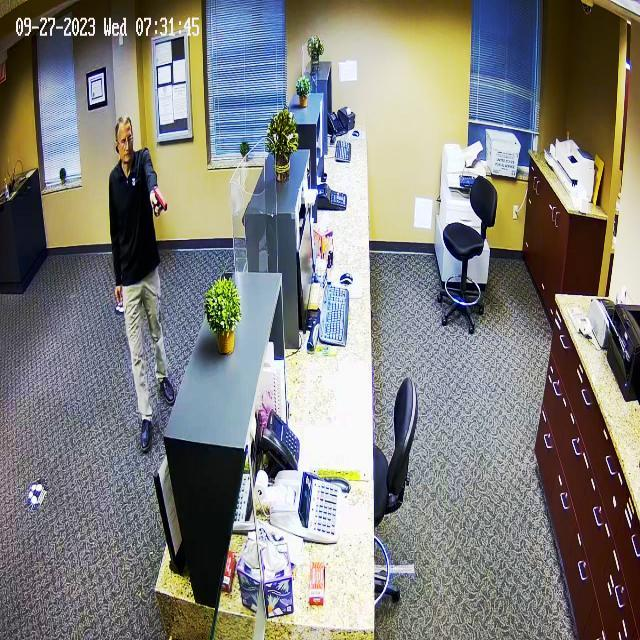Gun: (141, 180, 170, 215)
